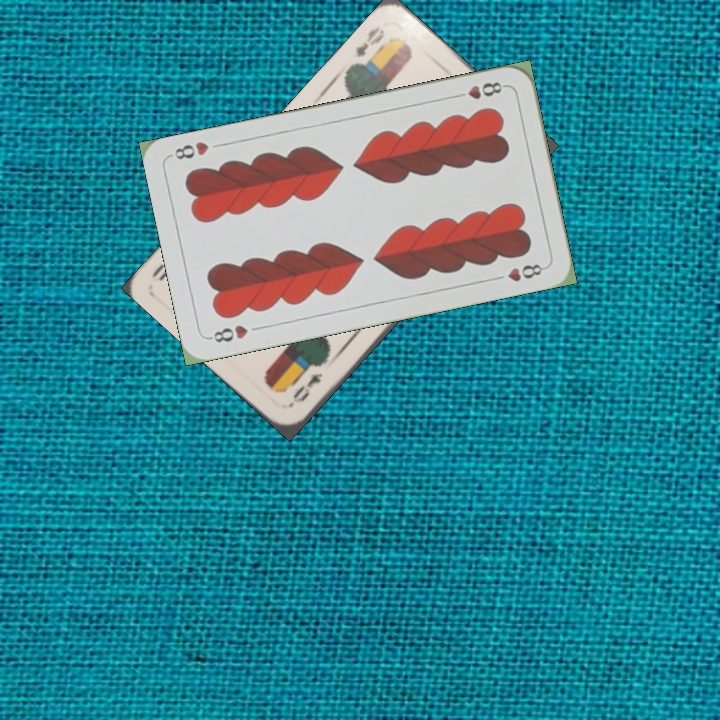EO: (286, 368, 325, 408), (351, 21, 387, 61)
H8: (450, 77, 509, 102), (205, 320, 251, 345)
